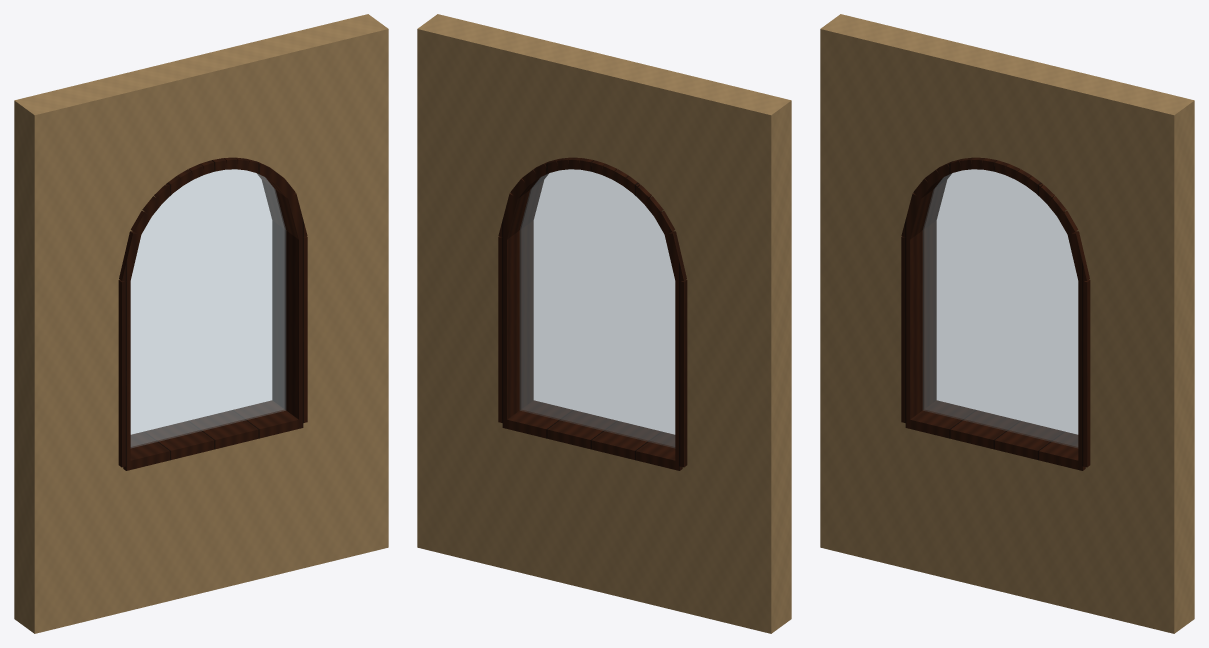
Rendered from window_arch.glb.
3 renders of one model, left to right at view 1: azimuth 30°, elevation 25°; view 2: azimuth 150°, elevation 25°; view 3: azimuth 330°, elevation 25°, orthographic.
Visible parts, largest first — view 1: ArchLeft, ArchRight, ArchGlass, ArchBottom, ArchFrameR, ArchFrameB, ArchFrameL, ArchTop00, ArchTop15, ArchTop01, ArchTop14, ArchTop02 (+13 smaller); view 2: ArchLeft, ArchRight, ArchGlass, ArchBottom, ArchFrameR, ArchFrameB, ArchFrameL, ArchTop00, ArchTop15, ArchTop01, ArchTop14, ArchTop02 (+13 smaller); view 3: ArchRight, ArchLeft, ArchGlass, ArchBottom, ArchFrameL, ArchFrameB, ArchFrameR, ArchTop15, ArchTop00, ArchTop14, ArchTop01, ArchTop13 (+13 smaller).
Boxes of the visible parts, x1=… form: ArchLeft: x1=14, y1=79, x2=123, y2=633; ArchRight: x1=280, y1=14, x2=388, y2=568; ArchGlass: x1=130, y1=169, x2=285, y2=447; ArchBottom: x1=123, y1=428, x2=300, y2=612; ArchFrameR: x1=272, y1=220, x2=307, y2=424; ArchFrameB: x1=123, y1=400, x2=303, y2=470; ArchFrameL: x1=118, y1=280, x2=130, y2=467; ArchTop00: x1=103, y1=76, x2=134, y2=258; ArchTop15: x1=269, y1=35, x2=300, y2=207; ArchTop01: x1=114, y1=73, x2=145, y2=222; ArchTop14: x1=258, y1=38, x2=288, y2=183; ArchTop02: x1=125, y1=70, x2=156, y2=205; ArchLeft: x1=682, y1=79, x2=791, y2=633; ArchRight: x1=417, y1=14, x2=525, y2=568; ArchGlass: x1=520, y1=169, x2=675, y2=447; ArchBottom: x1=505, y1=428, x2=682, y2=612; ArchFrameR: x1=498, y1=220, x2=533, y2=423; ArchFrameB: x1=502, y1=400, x2=682, y2=470; ArchFrameL: x1=675, y1=280, x2=687, y2=467; ArchTop00: x1=671, y1=76, x2=702, y2=258; ArchTop15: x1=505, y1=35, x2=536, y2=207; ArchTop01: x1=660, y1=73, x2=691, y2=222; ArchTop14: x1=517, y1=38, x2=547, y2=183; ArchTop02: x1=649, y1=70, x2=680, y2=205; ArchRight: x1=1085, y1=79, x2=1194, y2=633; ArchLeft: x1=820, y1=14, x2=928, y2=568; ArchGlass: x1=923, y1=169, x2=1078, y2=447; ArchBottom: x1=908, y1=428, x2=1085, y2=612; ArchFrameL: x1=901, y1=220, x2=936, y2=423; ArchFrameB: x1=905, y1=400, x2=1085, y2=470; ArchFrameR: x1=1078, y1=280, x2=1090, y2=467; ArchTop15: x1=1074, y1=76, x2=1105, y2=258; ArchTop00: x1=908, y1=35, x2=939, y2=207; ArchTop14: x1=1063, y1=73, x2=1094, y2=222; ArchTop01: x1=920, y1=38, x2=950, y2=183; ArchTop13: x1=1052, y1=70, x2=1083, y2=205.
Size of the model in its own units: 2 by 2.8 by 0.26.
Materials: 3 (2 with a texture image).
